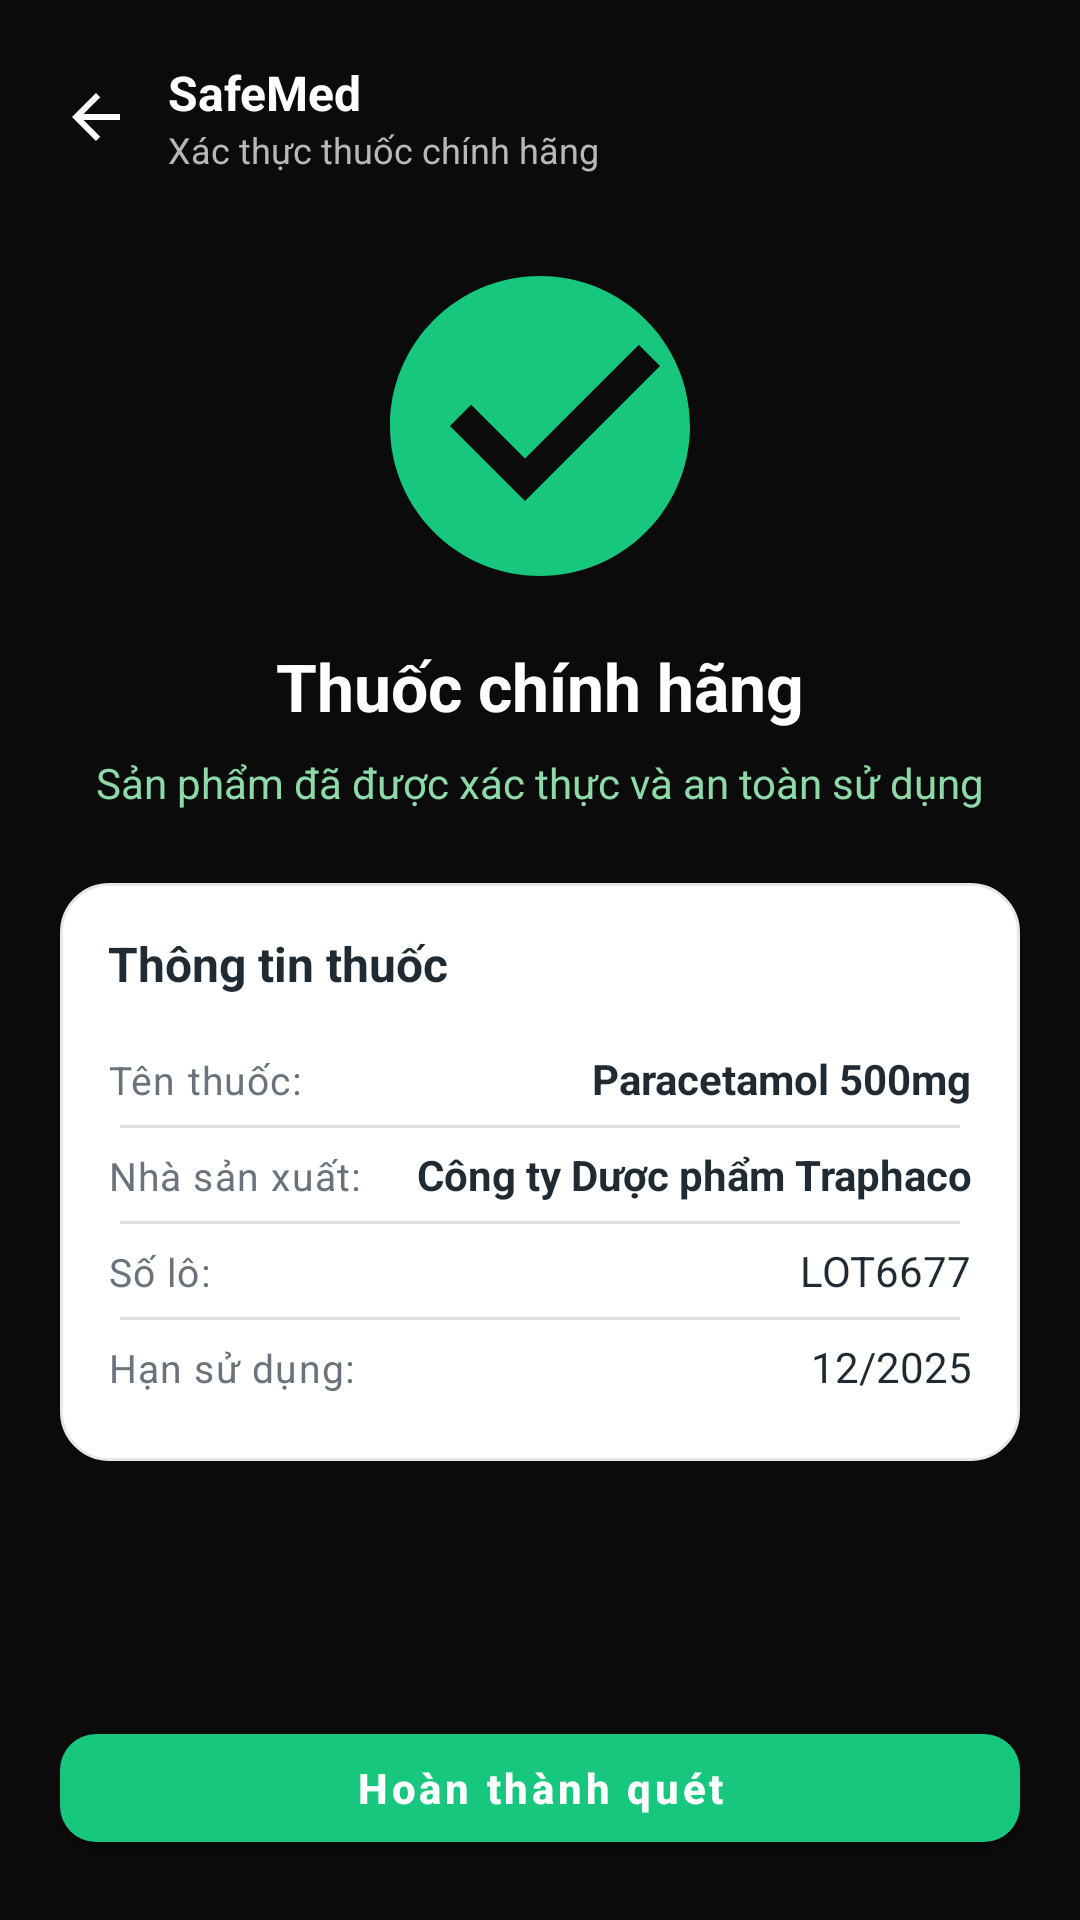

Screen size 1080w x 1920h. Icon name, then its center in pixels as point (x, y):
arrow back: point (96, 117)
check circle: point (540, 426)
